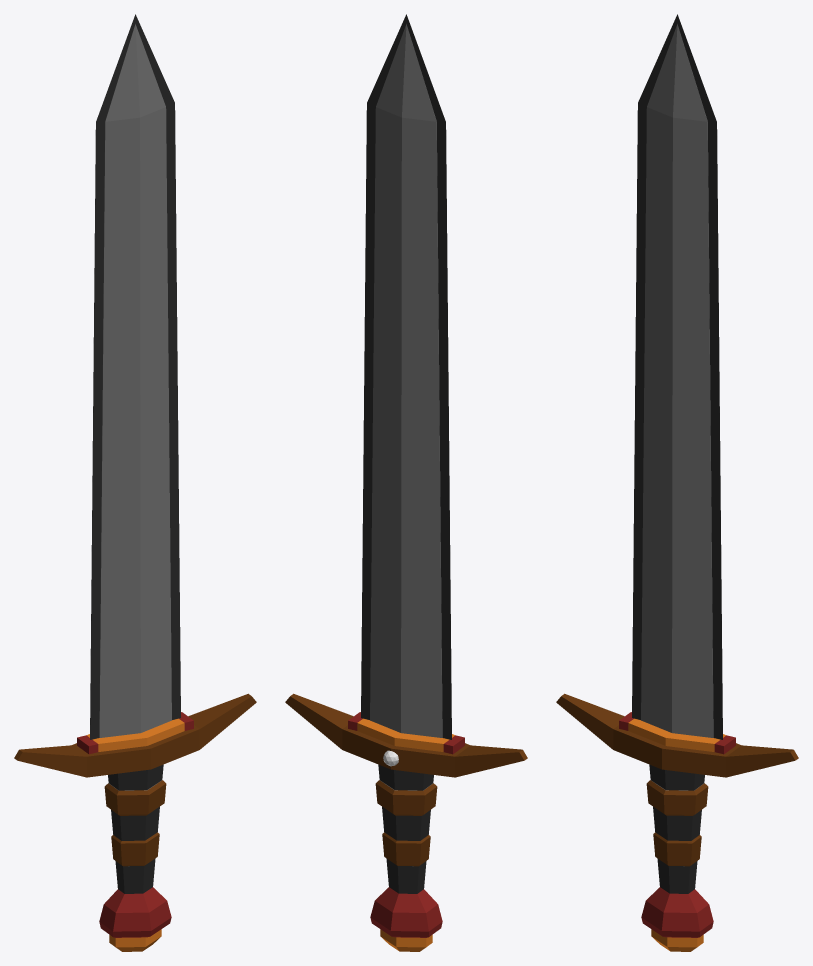
Rendered from Sword Model.fbx.
3 views of the same model, side by side, from view 1: azimuth 30°, elevation 25°; view 2: azimuth 150°, elevation 25°; view 3: azimuth 330°, elevation 25° (orthographic).
Parts seen in each view (by area): view 1: Cylinder; view 2: Cylinder; view 3: Cylinder.
Boxes of the visible parts, left/top/right/bottom form: Cylinder: left=14, top=14, right=256, bottom=951; Cylinder: left=285, top=14, right=527, bottom=951; Cylinder: left=556, top=14, right=798, bottom=951.
Bounding box in the file's own units: 890 × 3317 × 225.
